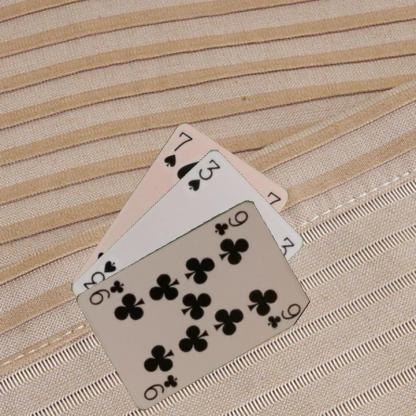3s: (185, 156, 222, 192)
7s: (161, 128, 194, 168)
9c: (140, 371, 180, 401), (212, 207, 250, 237)
